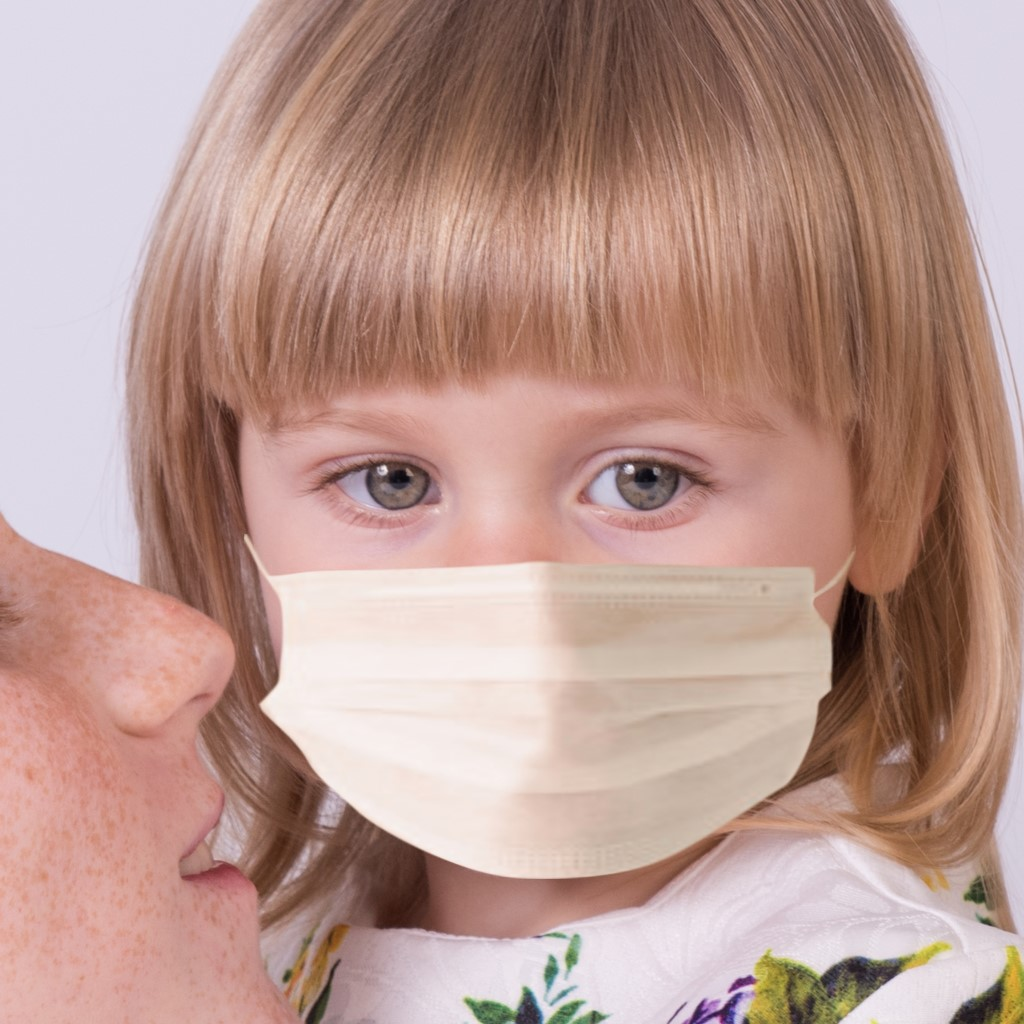con_mascara: (228, 249, 897, 911)
